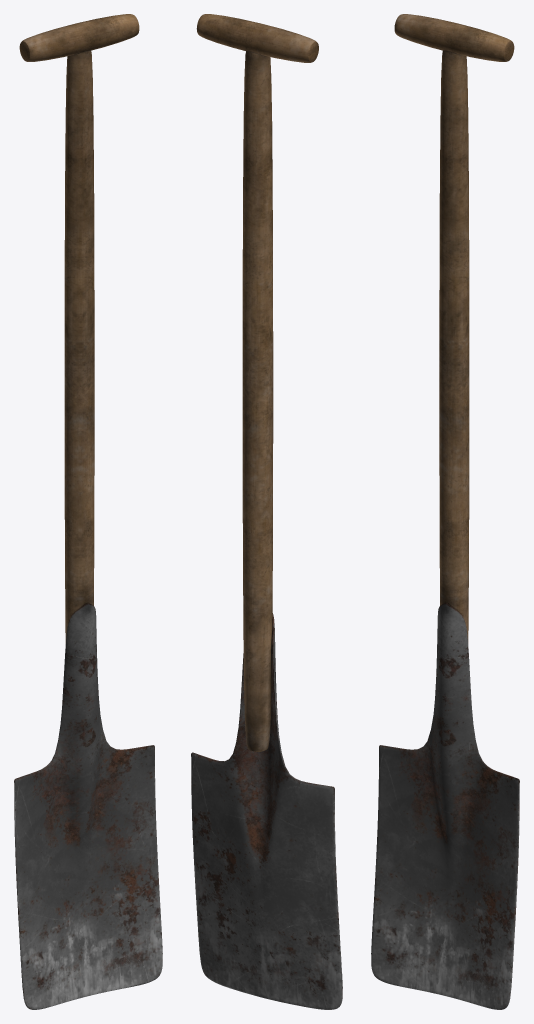
The model's file is rusted_spade_01_1k.gltf.
3 views of the same model, side by side, from view 1: azimuth 30°, elevation 25°; view 2: azimuth 150°, elevation 25°; view 3: azimuth 330°, elevation 25° (orthographic). The views are drawn at different scales.
Parts seen in each view (by area): view 1: rusted_spade_01; view 2: rusted_spade_01; view 3: rusted_spade_01.
Part boxes in pixels (x1=…): rusted_spade_01: x1=14, y1=14, x2=162, y2=1009; rusted_spade_01: x1=191, y1=14, x2=342, y2=1009; rusted_spade_01: x1=371, y1=14, x2=519, y2=1009.
Bounding box in the file's own units: 0.1681 × 1.1 × 0.0456.
1 material, 1 textured.
